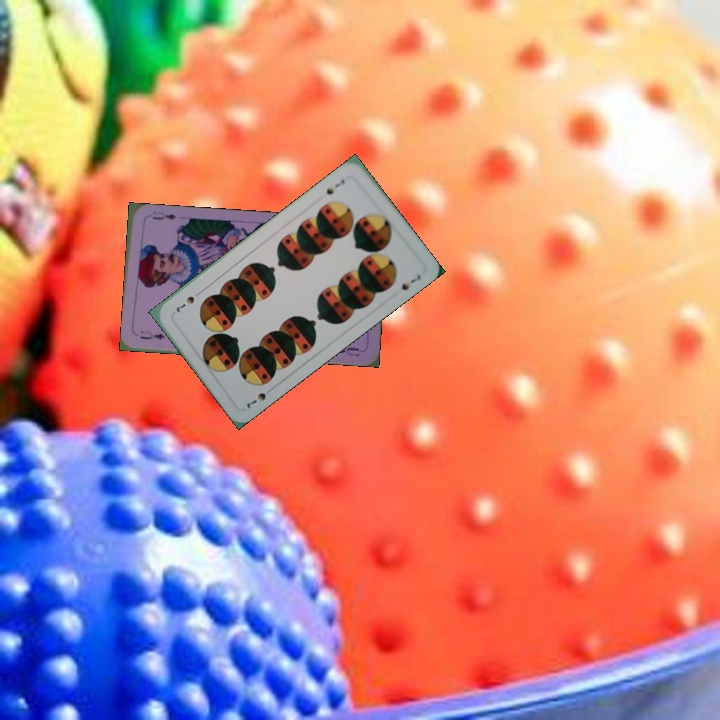EU: (136, 327, 168, 342)
S7: (242, 383, 276, 411), (322, 175, 347, 197)
